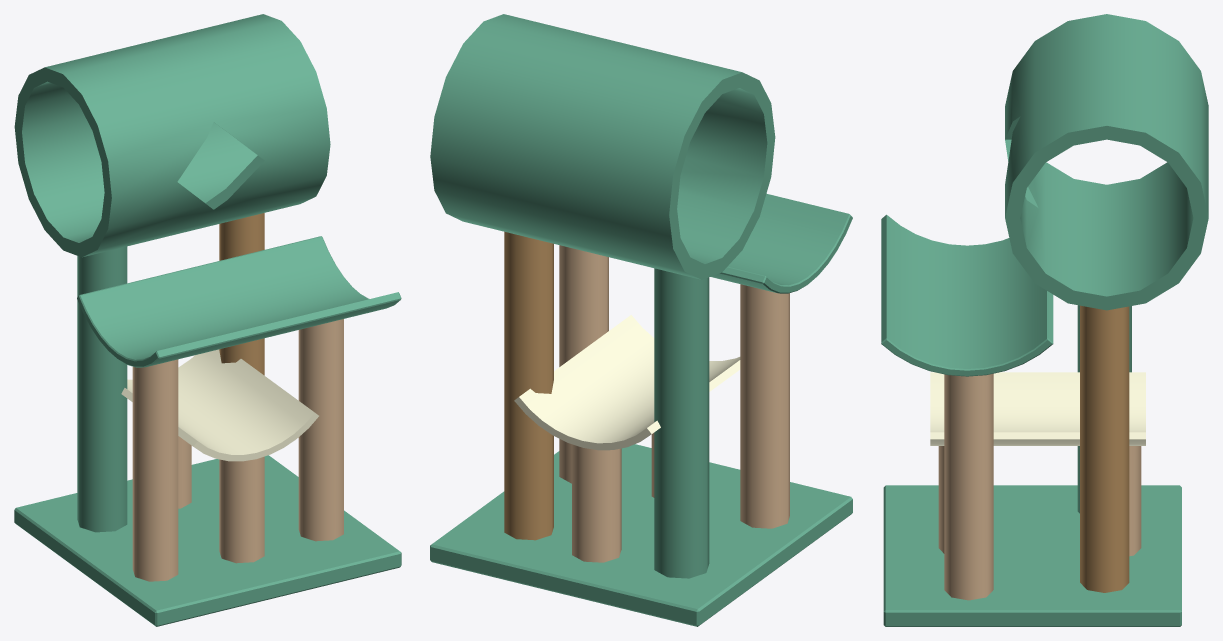
The model's file is Cat2.glb.
The picture shows the model from 3 angles, left to right: view 1: azimuth 30°, elevation 25°; view 2: azimuth 150°, elevation 25°; view 3: azimuth 270°, elevation 25°; orthographic projection. The views are drawn at different scales.
Visible parts, largest first — view 1: Mesh_CatTree1 pPipe2, pPlane1 Mesh_CatTree1, Mesh_CatTree1 pPlane2, Mesh_CatTree1 pCylinder5, Mesh_CatTree1 pPlane3, Mesh_CatTree1 pCylinder2, Mesh_CatTree1 pCylinder1, Mesh_CatTree1 pCylinder4, Mesh_CatTree1 pCylinder6, Mesh_CatTree1 pCylinder3; view 2: Mesh_CatTree1 pPipe2, pPlane1 Mesh_CatTree1, Mesh_CatTree1 pCylinder5, Mesh_CatTree1 pCylinder6, Mesh_CatTree1 pPlane3, Mesh_CatTree1 pCylinder2, Mesh_CatTree1 pPlane2, Mesh_CatTree1 pCylinder3, Mesh_CatTree1 pCylinder1; view 3: Mesh_CatTree1 pPipe2, pPlane1 Mesh_CatTree1, Mesh_CatTree1 pPlane2, Mesh_CatTree1 pCylinder6, Mesh_CatTree1 pCylinder1, Mesh_CatTree1 pPlane3, Mesh_CatTree1 pCylinder3, Mesh_CatTree1 pCylinder4, Mesh_CatTree1 pCylinder5.
Boxes of the visible parts, x1,y1,x2,y2 form: Mesh_CatTree1 pPipe2: (14,14,330,257); pPlane1 Mesh_CatTree1: (14,455,401,626); Mesh_CatTree1 pPlane2: (77,236,401,367); Mesh_CatTree1 pCylinder5: (77,246,127,532); Mesh_CatTree1 pPlane3: (121,349,318,461); Mesh_CatTree1 pCylinder2: (132,359,178,581); Mesh_CatTree1 pCylinder1: (298,319,343,541); Mesh_CatTree1 pCylinder4: (219,456,264,563); Mesh_CatTree1 pCylinder6: (219,213,264,375); Mesh_CatTree1 pCylinder3: (178,436,191,508); Mesh_CatTree1 pPipe2: (430,14,775,279); pPlane1 Mesh_CatTree1: (430,444,852,626); Mesh_CatTree1 pCylinder5: (654,268,709,578); Mesh_CatTree1 pCylinder6: (504,231,553,540); Mesh_CatTree1 pPlane3: (514,315,740,450); Mesh_CatTree1 pCylinder2: (740,284,789,528); Mesh_CatTree1 pPlane2: (710,193,852,293); Mesh_CatTree1 pCylinder3: (572,444,621,562); Mesh_CatTree1 pCylinder1: (559,245,608,483); Mesh_CatTree1 pPipe2: (1005,14,1208,310); pPlane1 Mesh_CatTree1: (883,485,1181,626); Mesh_CatTree1 pPlane2: (881,214,1053,376); Mesh_CatTree1 pCylinder6: (1080,305,1129,592); Mesh_CatTree1 pCylinder1: (944,373,993,600); Mesh_CatTree1 pPlane3: (930,372,1145,445); Mesh_CatTree1 pCylinder3: (1129,446,1141,556); Mesh_CatTree1 pCylinder4: (938,446,944,553); Mesh_CatTree1 pCylinder5: (1077,305,1131,513).
Bounding box in the file's own units: 3.61 × 6.62 × 3.97.
Materials: 1 (1 with a texture image).
